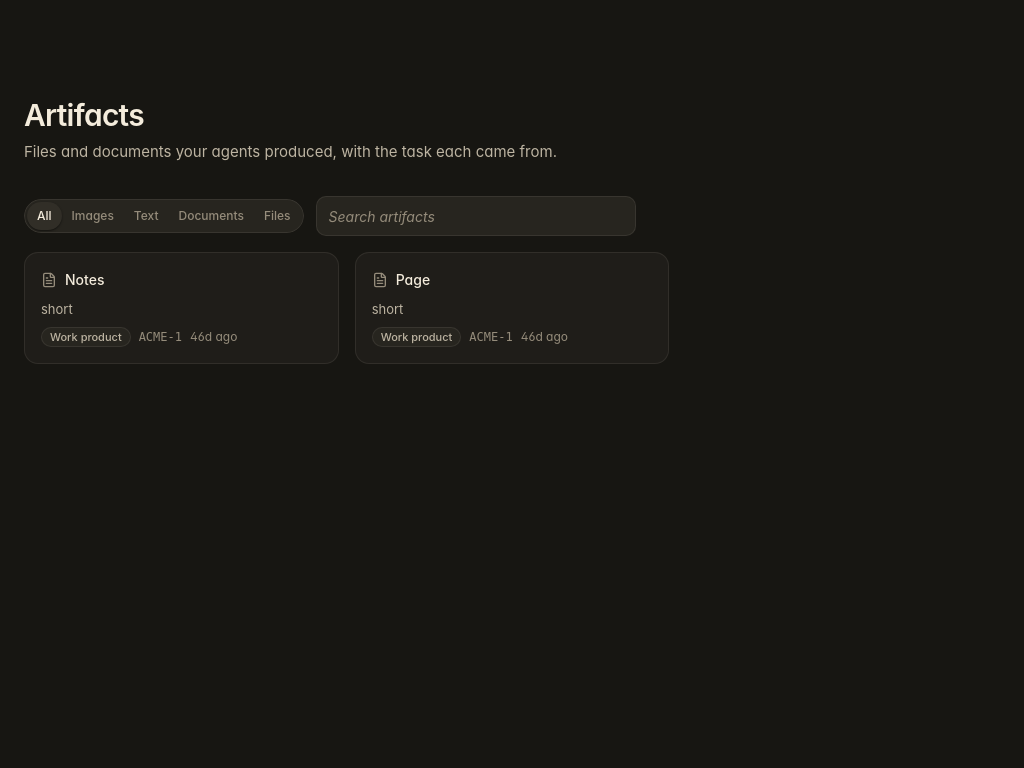
skills, artifacts and workspaces › previews a text artifact through the proxy and never renders engine markup
Click the text "Notes": (85, 280) [65,269,104,291]
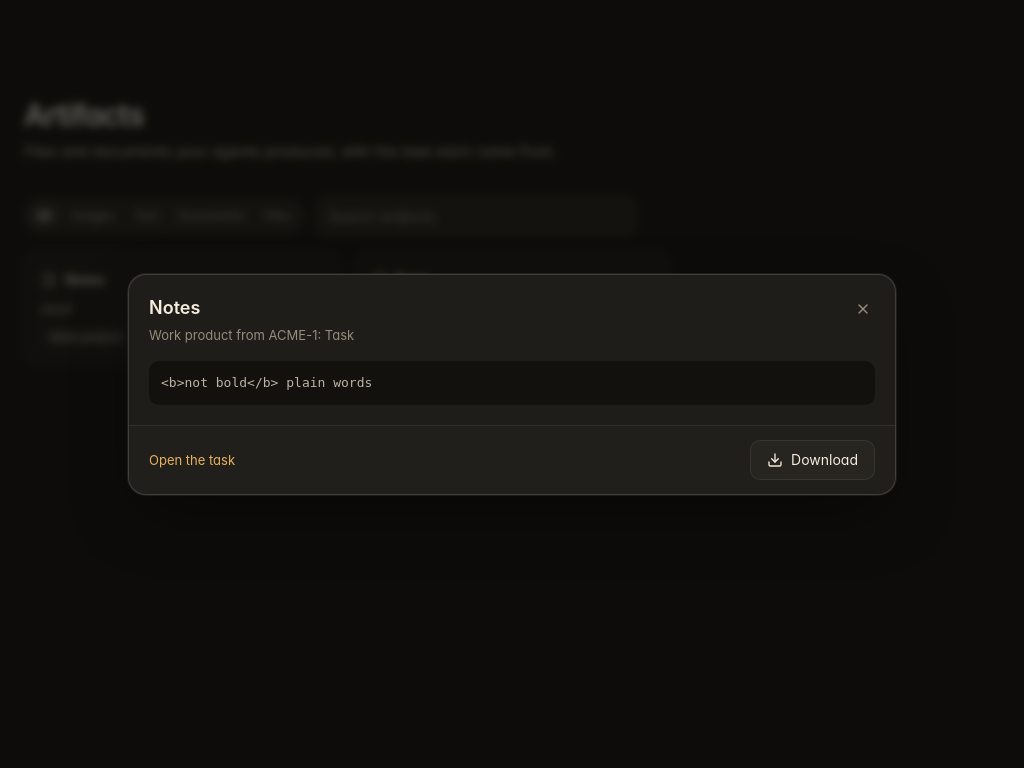
Now the text "<b>not bold</b> plain words" is shown, box [149,360,875,404]
Press Escape
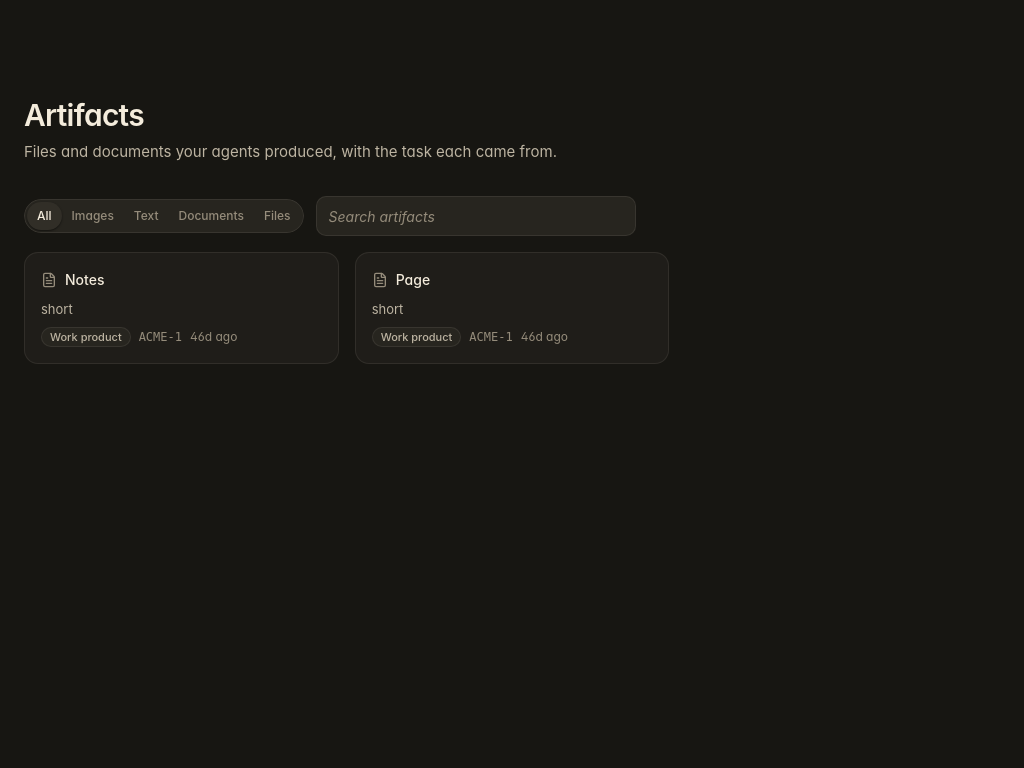
Click the text "Page": (413, 280) [396,269,430,291]
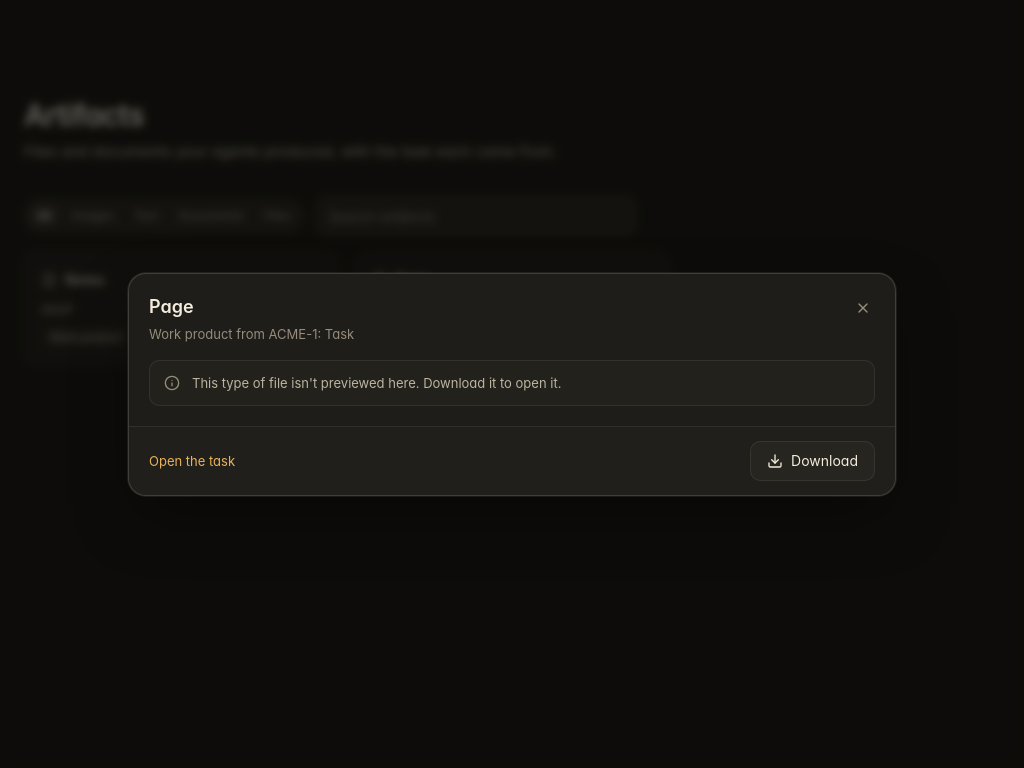
Now the text "isn't previewed here" is shown, box [192,374,561,390]
